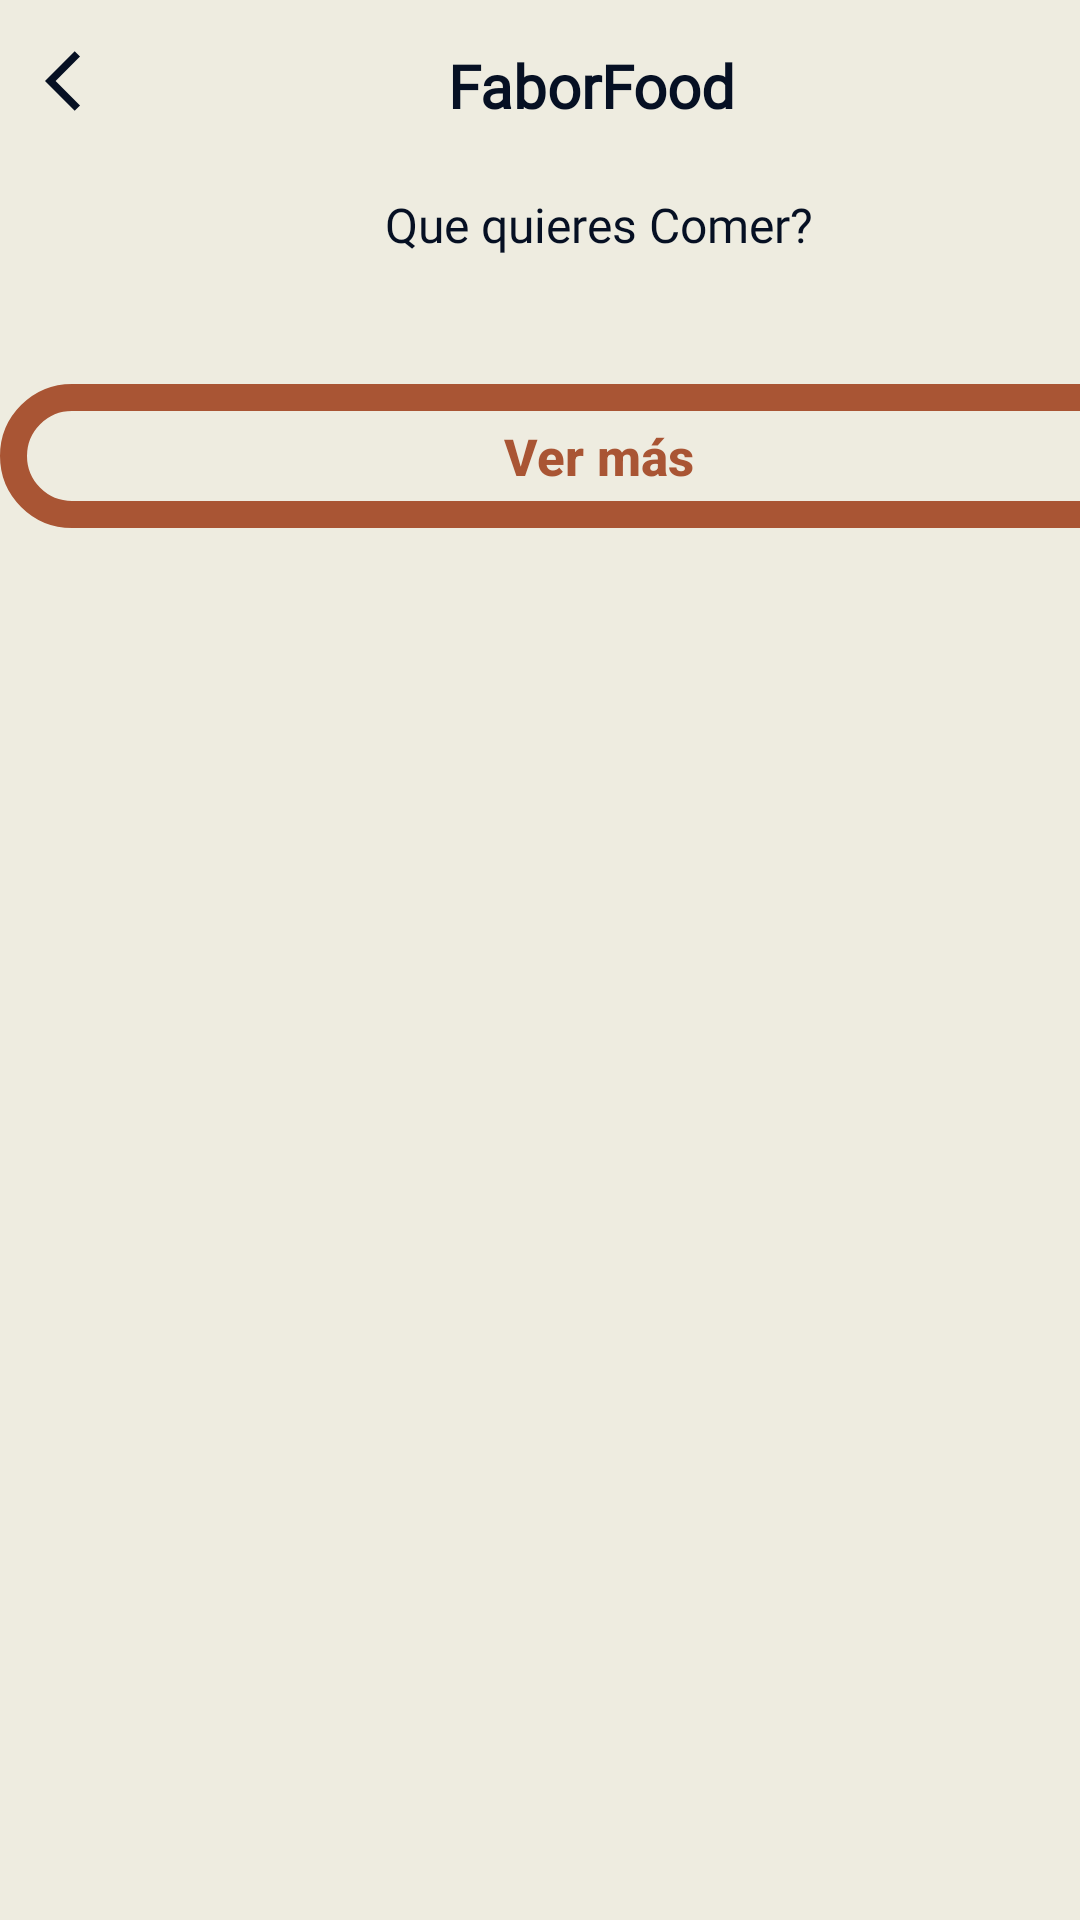

Icon bounding boxes for this 1080×1920 phone screenshot, format (x1, y1, x2, y2):
arrow back: (45, 51, 80, 111)
